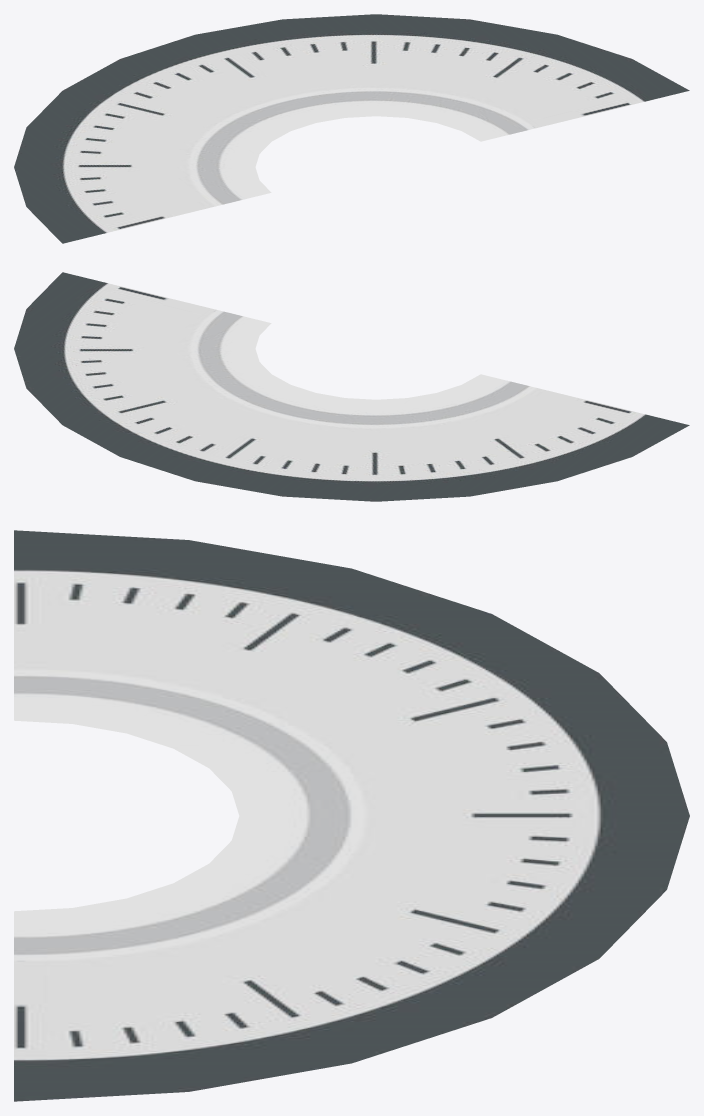
File: Radar.FBX
3 views of the same model, one above another, from view 1: azimuth 30°, elevation 25°; view 2: azimuth 150°, elevation 25°; view 3: azimuth 270°, elevation 25° (orthographic). The views are drawn at different scales.
Visible parts, largest first — view 1: radarPlane001, radarPlane003, radarPlane, radarPlane004, radarPlane002, radarPlane005; view 2: radarPlane005, radarPlane002, radarPlane004, radarPlane, radarPlane003, radarPlane001; view 3: radarPlane005, radarPlane001, radarPlane, radarPlane004, radarPlane002, radarPlane003.
Part boxes in pixels (x1,y1,x2,y2): radarPlane001: (14, 90, 271, 167); radarPlane003: (195, 14, 376, 122); radarPlane: (14, 167, 271, 243); radarPlane004: (437, 34, 689, 141); radarPlane002: (63, 35, 315, 141); radarPlane005: (376, 14, 556, 122); radarPlane005: (14, 348, 271, 425); radarPlane002: (195, 393, 376, 501); radarPlane004: (14, 272, 271, 348); radarPlane: (437, 374, 689, 481); radarPlane003: (63, 374, 315, 480); radarPlane001: (376, 393, 556, 501); radarPlane005: (127, 863, 598, 1063); radarPlane001: (127, 568, 598, 768); radarPlane: (14, 530, 351, 733); radarPlane004: (14, 898, 351, 1101); radarPlane002: (209, 673, 689, 815); radarPlane003: (209, 816, 689, 958).
Size of what is drawn, in the model's own units: 251 by 7.11e-15 by 125.
1 material, 1 textured.
